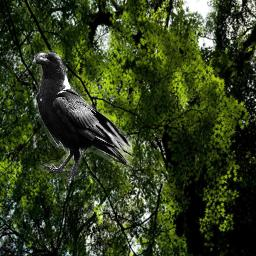Crow: (30, 50, 132, 180)
